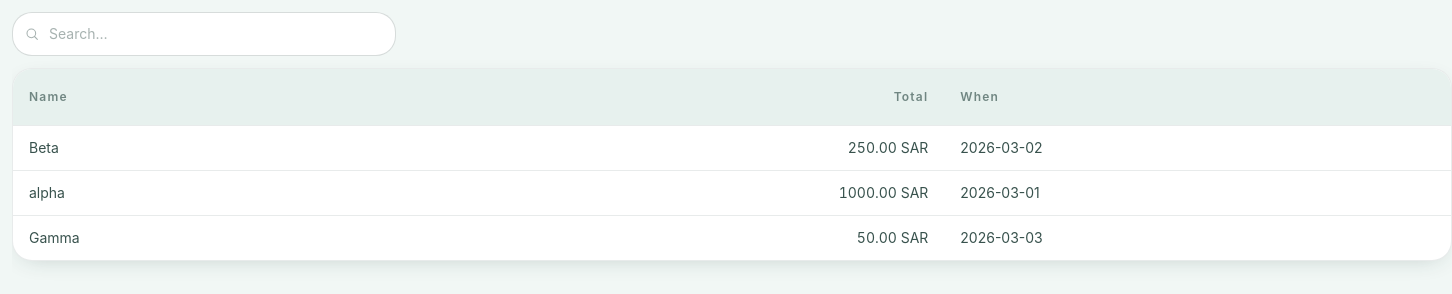
Test: _ui DataTable › filters via search and shows an actionable empty state
Type "gam" into the search field with placeholder "Search…".
click(204, 34); type("gam")  # box [12,12,396,56]
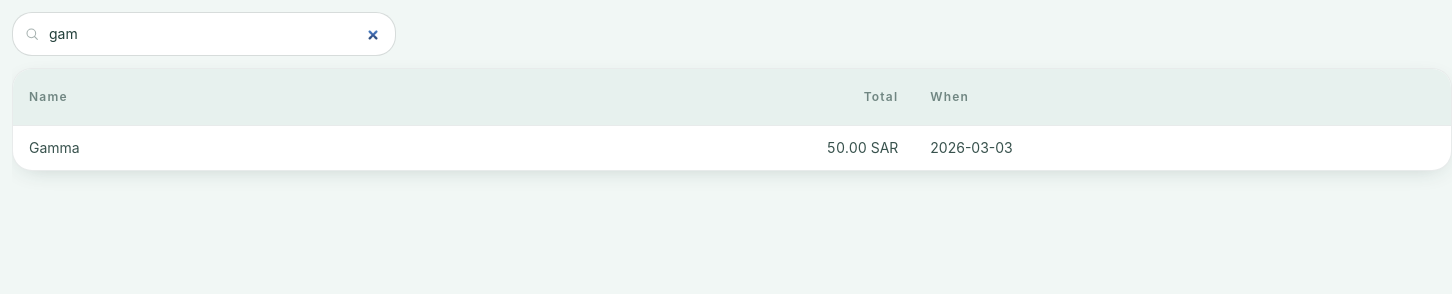
Replace the text in the search field with placeholder "Search…" with "zzz" at (204, 34), box [12,12,396,56]
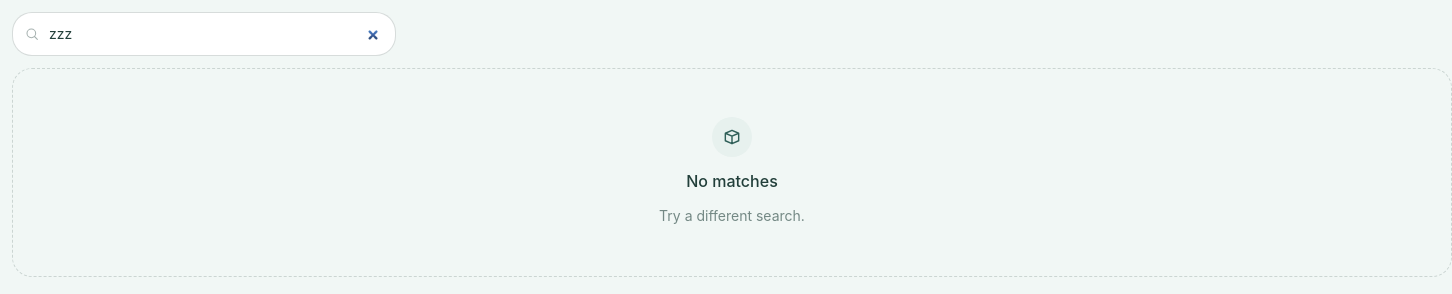
Expected: the text "No matches" is shown, [686,169,778,193]
